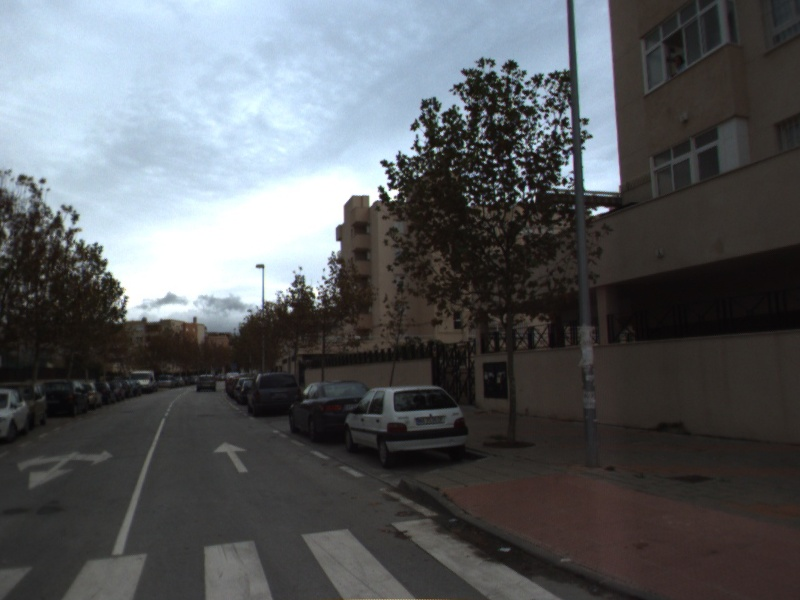STRAIGHT: (212, 440, 250, 474)
